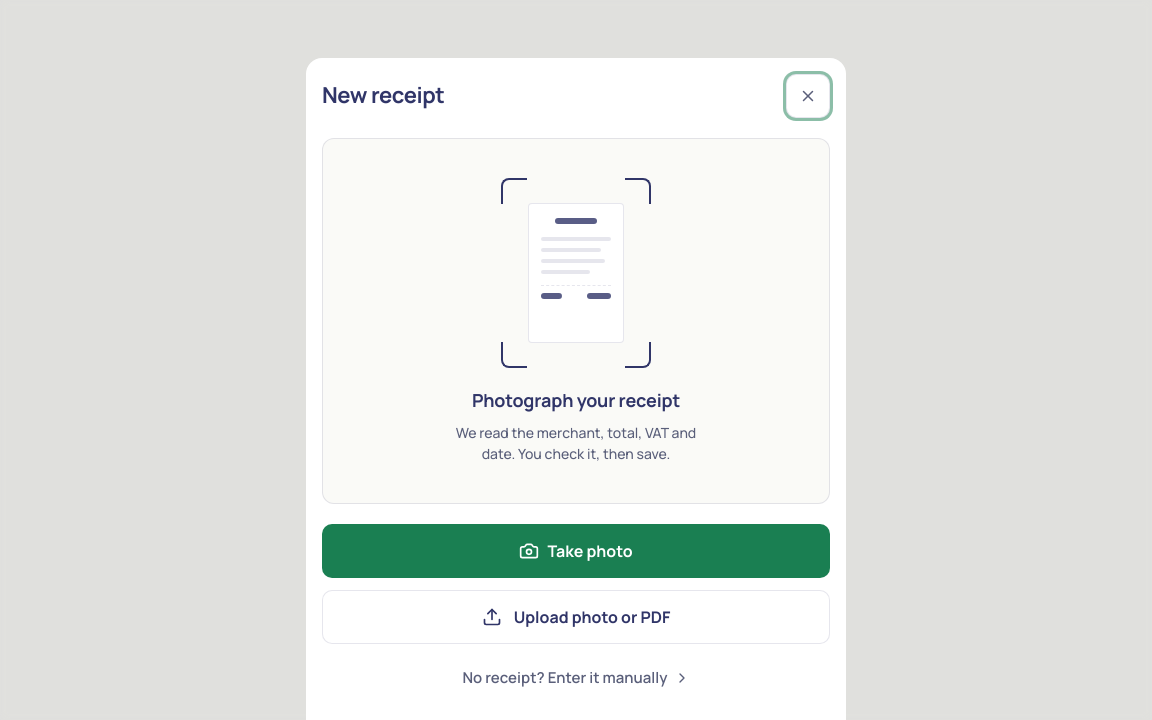
Test: CaptureDialog › starts with VAT off when the customer turned it off before
Click the button "No receipt? Enter it manually".
click(576, 678)  # box [322, 656, 830, 700]
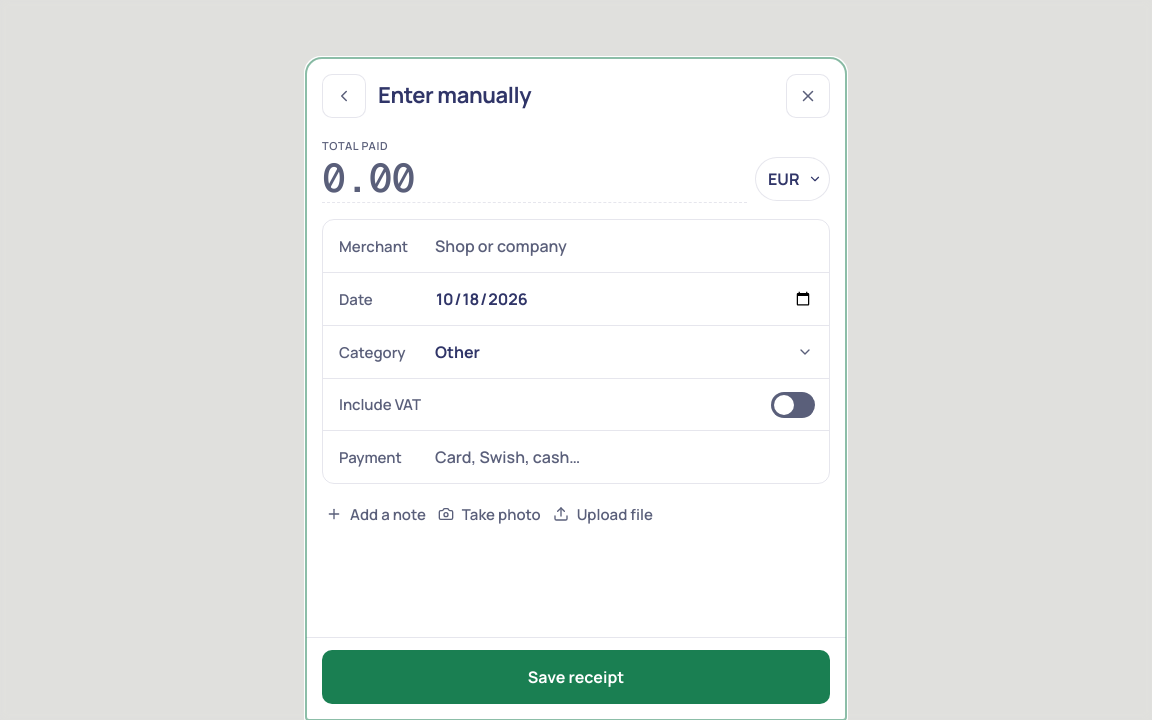
Click the switch named "Include VAT".
click(793, 405)  # box [765, 383, 821, 427]
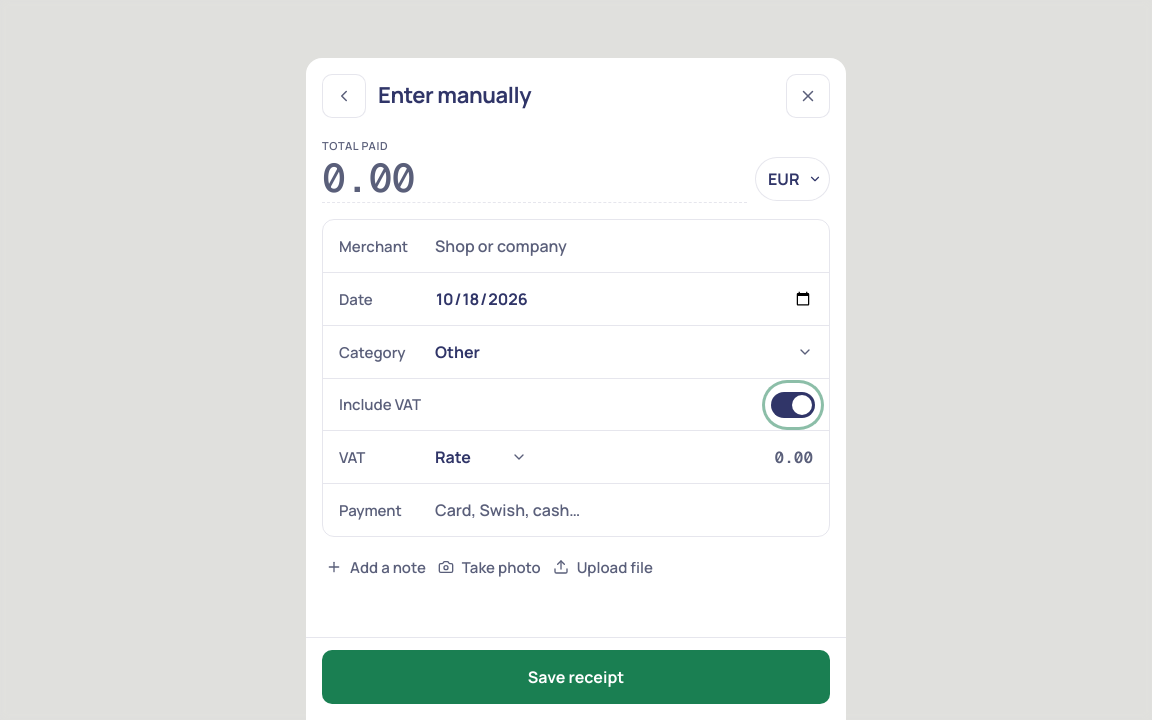
Expected: the dropdown named "VAT rate" is shown, [435, 431, 527, 483]
